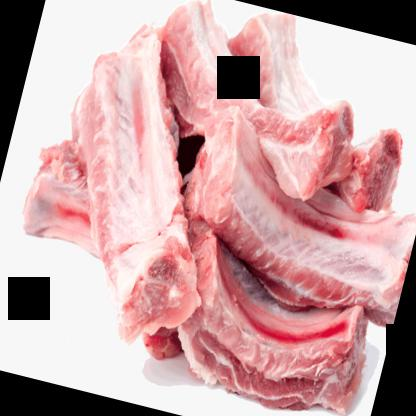pork rib: (27, 31, 251, 354), (164, 106, 415, 340), (124, 0, 376, 209), (151, 218, 388, 415), (203, 3, 415, 221)
